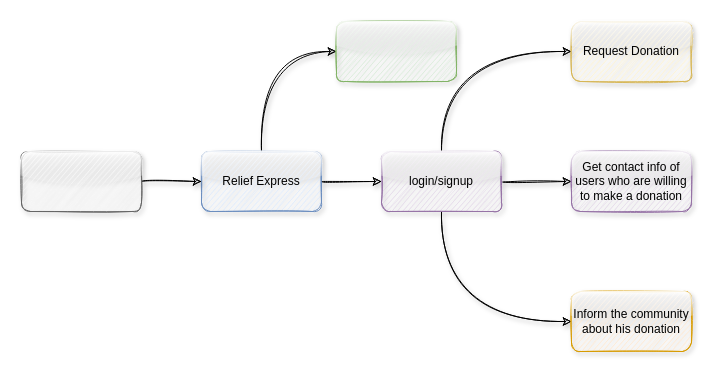
Image size: 715x376. Some labels were removed from this diagram. Each missing label, with the centre of its shape:
Check current COVID stats: point (397, 52)
User: point (82, 182)
